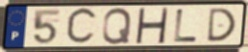5: (33, 9, 63, 46)
C: (64, 5, 100, 47)
D: (205, 7, 238, 43)
H: (134, 7, 170, 45)
L: (172, 8, 200, 43)
Q: (101, 7, 134, 46)
